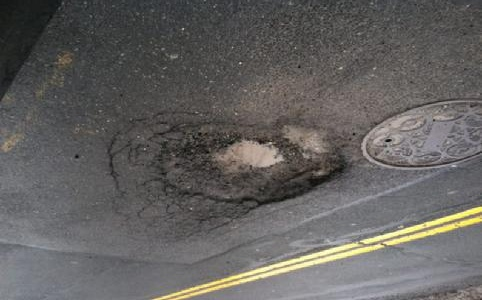pothole: (150, 121, 345, 208)
